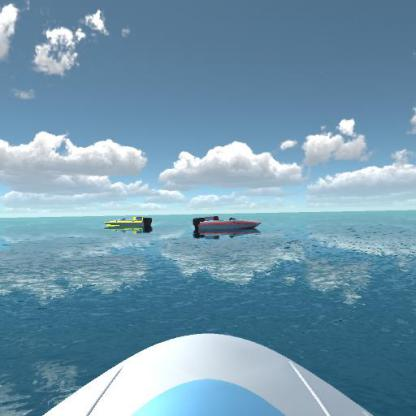usv2: (102, 213, 156, 237)
usv3: (189, 209, 265, 242)
